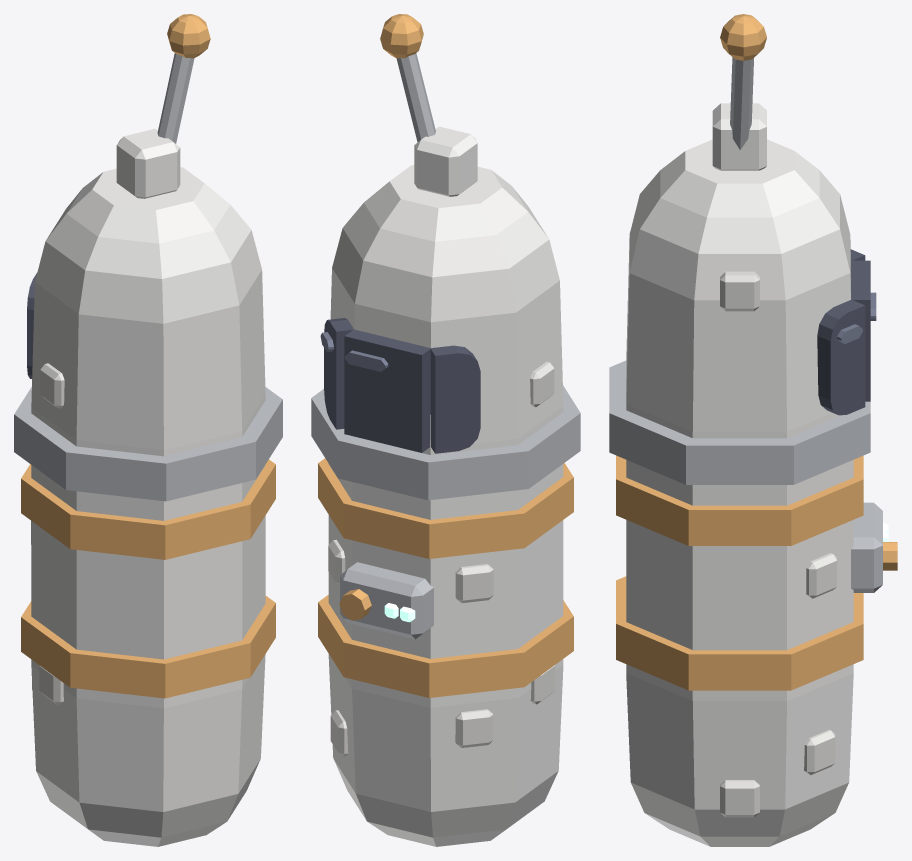
File: NarmekAstronautCucumber.fbx
3 renders of one model, left to right at view 1: azimuth 30°, elevation 25°; view 2: azimuth 150°, elevation 25°; view 3: azimuth 270°, elevation 25°, orthographic. The views are drawn at different scales.
Parts seen in each view (by area): view 1: NarmekAstronautCucumber.Body, NarmekAstronautCucumber.Stripes, NarmekAstronautCucumber.Gear, NarmekAstronautCucumber.Studs, NarmekAstronautCucumber.Visor; view 2: NarmekAstronautCucumber.Body, NarmekAstronautCucumber.Stripes, NarmekAstronautCucumber.Gear, NarmekAstronautCucumber.Visor, NarmekAstronautCucumber.Studs, NarmekAstronautCucumber.VisorGlint; view 3: NarmekAstronautCucumber.Body, NarmekAstronautCucumber.Stripes, NarmekAstronautCucumber.Gear, NarmekAstronautCucumber.Visor, NarmekAstronautCucumber.Studs, NarmekAstronautCucumber.VisorGlint.
Part boxes in pixels (left/top/right/bottom): NarmekAstronautCucumber.Body: left=31, top=129, right=265, bottom=846; NarmekAstronautCucumber.Stripes: left=21, top=14, right=275, bottom=698; NarmekAstronautCucumber.Gear: left=14, top=53, right=282, bottom=501; NarmekAstronautCucumber.Studs: left=31, top=363, right=64, bottom=704; NarmekAstronautCucumber.Visor: left=27, top=273, right=36, bottom=378; NarmekAstronautCucumber.Body: left=328, top=126, right=563, bottom=846; NarmekAstronautCucumber.Stripes: left=318, top=14, right=573, bottom=697; NarmekAstronautCucumber.Gear: left=311, top=53, right=580, bottom=639; NarmekAstronautCucumber.Visor: left=324, top=318, right=480, bottom=453; NarmekAstronautCucumber.Studs: left=328, top=361, right=555, bottom=756; NarmekAstronautCucumber.VisorGlint: left=320, top=332, right=388, bottom=371; NarmekAstronautCucumber.Body: left=626, top=103, right=853, bottom=846; NarmekAstronautCucumber.Stripes: left=616, top=14, right=897, bottom=690; NarmekAstronautCucumber.Gear: left=609, top=57, right=882, bottom=592; NarmekAstronautCucumber.Visor: left=817, top=249, right=870, bottom=415; NarmekAstronautCucumber.Studs: left=720, top=271, right=836, bottom=817; NarmekAstronautCucumber.VisorGlint: left=837, top=292, right=876, bottom=343.
Bounding box in the file's own units: 1.44 × 5.01 × 1.59.
